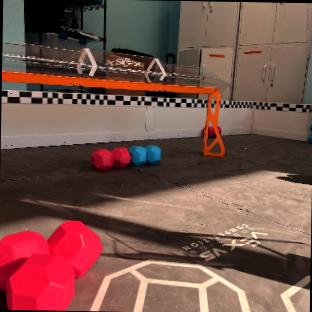Goal: (1, 42, 228, 156)
V5_BLUE: (128, 145, 161, 165), (308, 123, 312, 143)
V5_RED: (0, 220, 101, 310), (91, 147, 131, 170), (208, 126, 215, 137), (217, 126, 221, 132)
